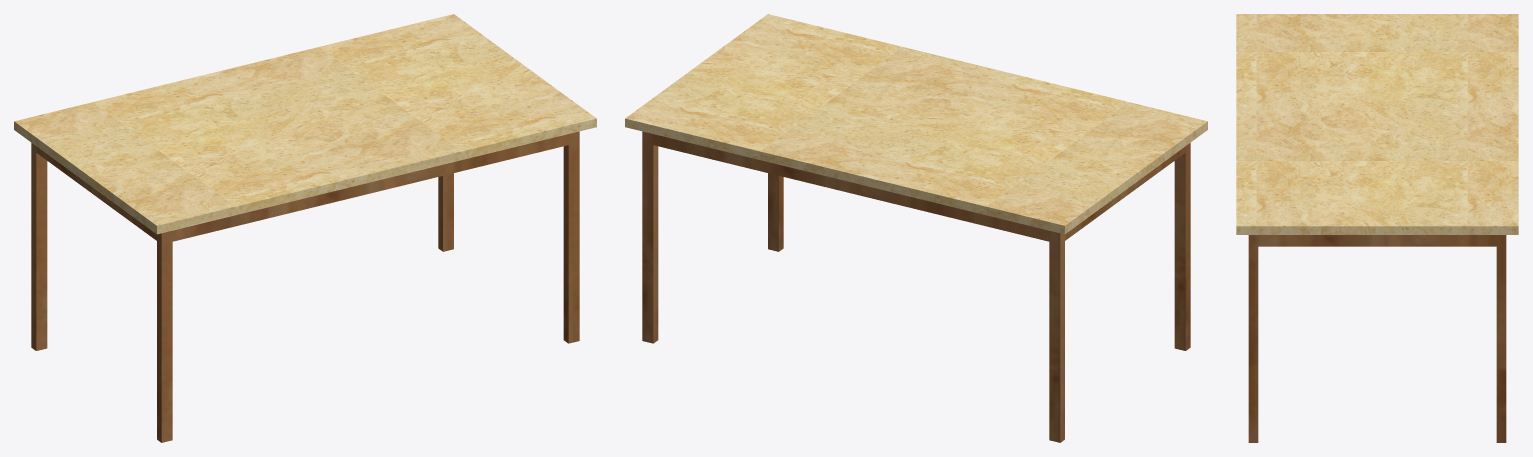
Rendered from kitchenTable.fbx.
The picture shows the model from 3 angles, left to right: view 1: azimuth 30°, elevation 25°; view 2: azimuth 150°, elevation 25°; view 3: azimuth 270°, elevation 25°; orthographic projection.
Visible parts, largest first — view 1: polySurface33; view 2: polySurface33; view 3: polySurface33.
Boxes of the visible parts, x1,y1,x2,y2 form: polySurface33: (14,14,596,442); polySurface33: (625,14,1207,442); polySurface33: (1236,14,1518,442).
Bounding box in the file's own units: 1.6 × 0.78 × 0.9.
2 materials, 2 textured.
